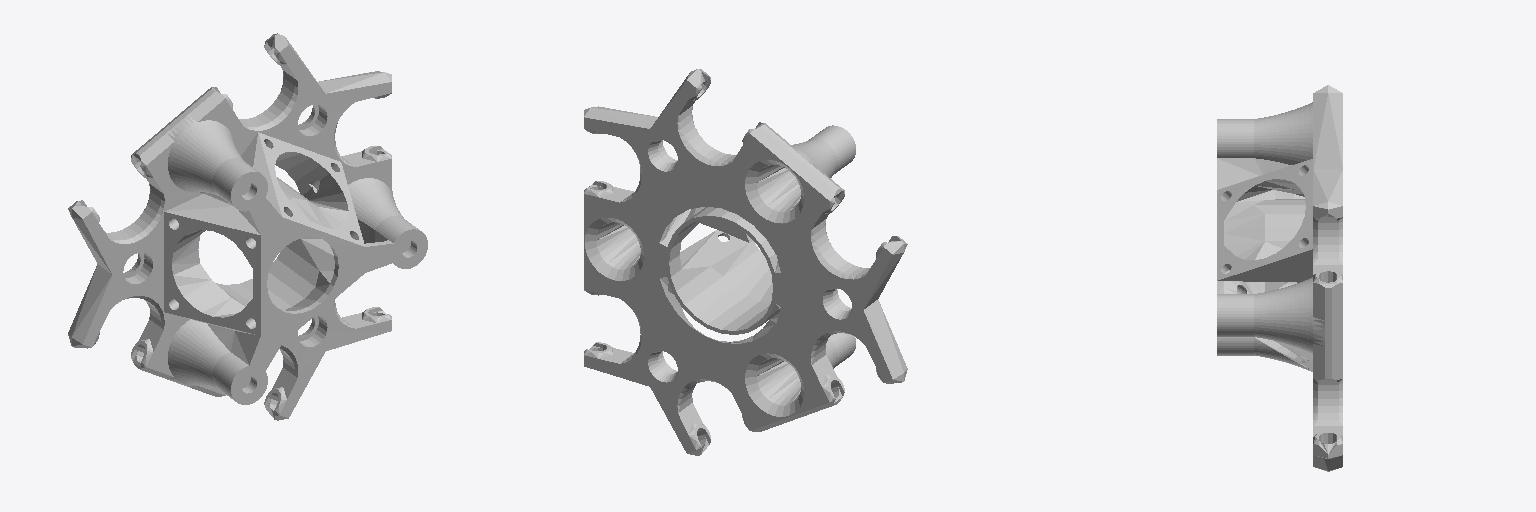
The model's file is Carriage v6-2.obj.
3 views of the same model, side by side, from view 1: azimuth 30°, elevation 25°; view 2: azimuth 150°, elevation 25°; view 3: azimuth 270°, elevation 25° (orthographic).
Parts seen in each view (by area): view 1: Mesh1 Model; view 2: Mesh1 Model; view 3: Mesh1 Model.
Part boxes in pixels (x1,y1,x2,y2): Mesh1 Model: (68, 33, 427, 420); Mesh1 Model: (584, 69, 907, 455); Mesh1 Model: (1217, 85, 1342, 471).
Size of the model in its own units: 86.26 by 99.6 by 29.45.